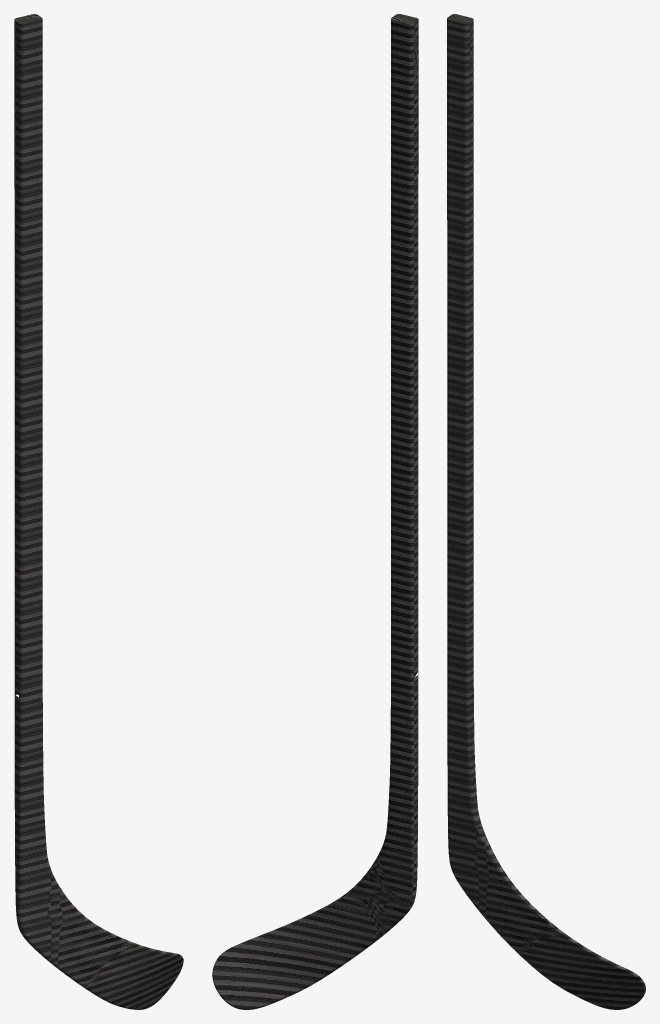
The picture shows the model from 3 angles, left to right: view 1: azimuth 30°, elevation 25°; view 2: azimuth 150°, elevation 25°; view 3: azimuth 330°, elevation 25°; orthographic projection. The views are drawn at different scales.
Parts seen in each view (by area): view 1: geometry_0; view 2: geometry_0; view 3: geometry_0.
Part boxes in pixels (left/top/right/bottom): geometry_0: left=14, top=14, right=183, bottom=1009; geometry_0: left=212, top=14, right=418, bottom=1009; geometry_0: left=447, top=14, right=645, bottom=1009.
Size of the model in its own units: 240 by 1269 by 66.24.
Materials: 1 (1 with a texture image).
